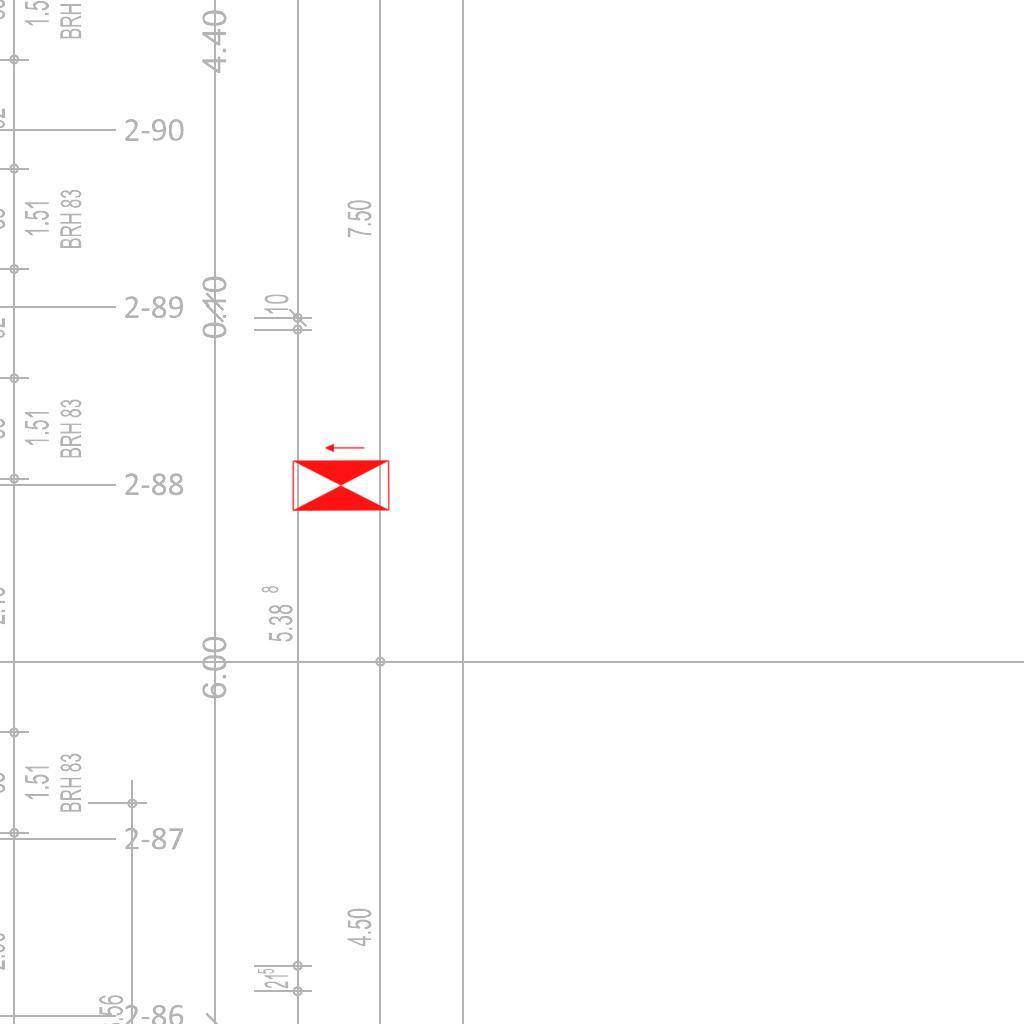Fluchtwegpiktogramm: (289, 441, 393, 514)
